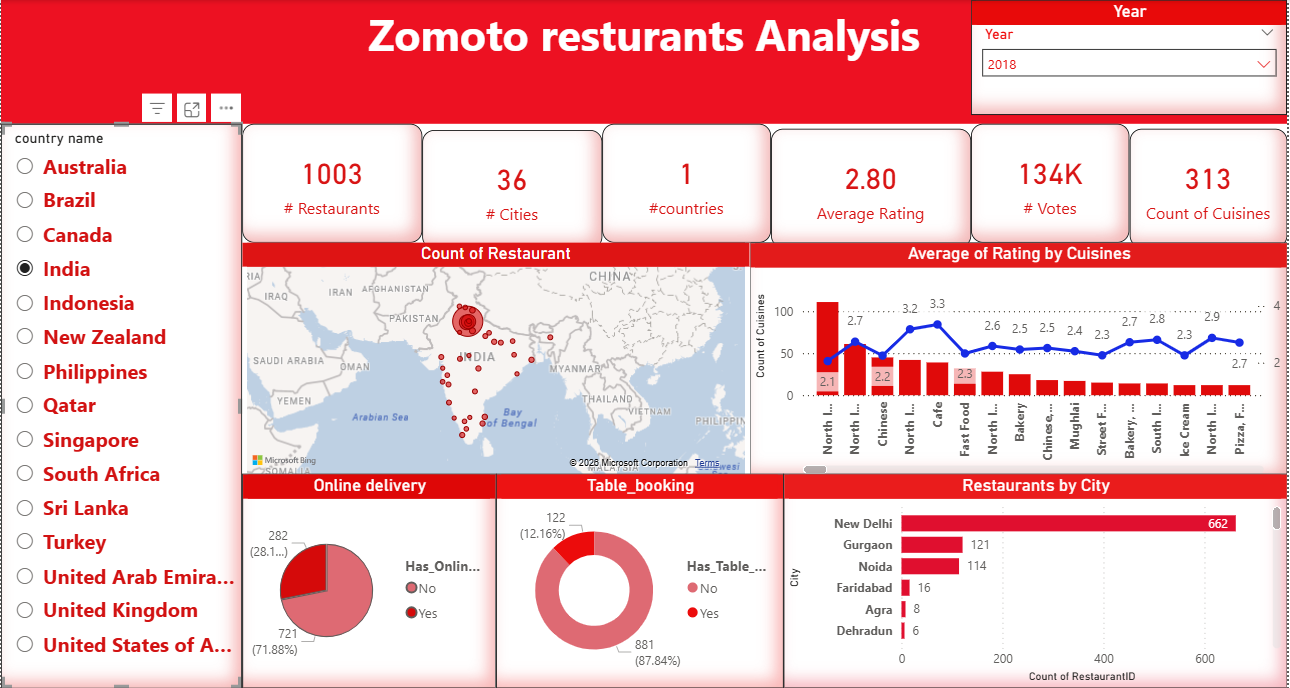

Layout of this report page (visuals, bound fields, positions):
{"tool":"powerbi","page":{"name":"Page 1","canvas":[1280,720],"ordinal":0},"visuals":[{"type":"textbox","box":[0,0,1280,107],"z":0},{"type":"card","fields":{"Values":["Count(Resturants.RestaurantID)"]},"box":[240.1,69.7,179.1,118.2],"z":1000},{"type":"card","fields":{"Values":["Count(Resturants.City)"]},"box":[419.2,69.7,179.1,118.2],"z":2000},{"type":"card","fields":{"Values":["Count(Resturants.CountryCode)"]},"box":[598.3,69.7,167.9,118.2],"z":3000},{"type":"card","fields":{"Values":["Avg(Resturants.Rating)"]},"box":[766.3,69.7,199,118.2],"z":4000},{"type":"card","fields":{"Values":["Sum(Resturants.Votes)"]},"box":[965.3,69.7,158,118.2],"z":5000},{"type":"card","fields":{"Values":["Count(Resturants.Cuisines)"]},"box":[1123.3,69.7,156.7,118.2],"z":6000},{"type":"slicer","fields":{"Values":["Country.country name"]},"box":[0,69.7,240.1,615.8],"z":7000},{"type":"lineStackedColumnComboChart","title":"Average of Rating by Cuisines","fields":{"Category":["Resturants.Cuisines"],"Y":["CountNonNull(Resturants.Cuisines)"],"Y2":["Avg(Resturants.Rating)"]},"box":[745.1,187.8,534.9,236.4],"z":8000},{"type":"clusteredBarChart","title":"Restaurants by City","fields":{"Category":["Resturants.City"],"Y":["CountNonNull(Resturants.RestaurantID)"]},"box":[778.7,424.2,501.3,261.2],"z":9000},{"type":"map","title":"Count of Restaurant","fields":{"Category":["Resturants.City"],"Size":["Count(Resturants.RestaurantID)"]},"box":[240.1,187.8,505,236.4],"z":9001},{"type":"pieChart","title":"Online delivery","fields":{"Category":["Resturants.Has_Online_delivery"],"Y":["CountNonNull(Resturants.RestaurantID)"]},"box":[240.1,424.2,252.5,261.2],"z":9002},{"type":"donutChart","title":"Table_booking","fields":{"Category":["Resturants.Has_Table_booking"],"Y":["CountNonNull(Resturants.RestaurantID)"]},"box":[492.6,424.2,286.1,261.2],"z":9003},{"type":"slicer","title":"Year","fields":{"Values":["Resturants.Datekey_Opening.Variation.Date Hierarchy.Year"]},"box":[965.3,0,314.7,69.7],"z":9004}]}

Visuals, with their boxes on the page's 1280x720 design canvas (x1, y1, x2, y2). These are canvas units, not pixel positions in the 1290x688 screenshot, which may show the page scaled, cropped or inside an application window:
textbox: pyautogui.locateOnScreen(0, 0, 1280, 107)
card - Count(Resturants.RestaurantID): pyautogui.locateOnScreen(240, 70, 419, 188)
card - Count(Resturants.City): pyautogui.locateOnScreen(419, 70, 598, 188)
card - Count(Resturants.CountryCode): pyautogui.locateOnScreen(598, 70, 766, 188)
card - Avg(Resturants.Rating): pyautogui.locateOnScreen(766, 70, 965, 188)
card - Sum(Resturants.Votes): pyautogui.locateOnScreen(965, 70, 1123, 188)
card - Count(Resturants.Cuisines): pyautogui.locateOnScreen(1123, 70, 1280, 188)
slicer - Country.country name: pyautogui.locateOnScreen(0, 70, 240, 686)
"Average of Rating by Cuisines" lineStackedColumnComboChart: pyautogui.locateOnScreen(745, 188, 1280, 424)
"Restaurants by City" clusteredBarChart: pyautogui.locateOnScreen(779, 424, 1280, 685)
"Count of Restaurant" map: pyautogui.locateOnScreen(240, 188, 745, 424)
"Online delivery" pieChart: pyautogui.locateOnScreen(240, 424, 493, 685)
"Table_booking" donutChart: pyautogui.locateOnScreen(493, 424, 779, 685)
"Year" slicer: pyautogui.locateOnScreen(965, 0, 1280, 70)
